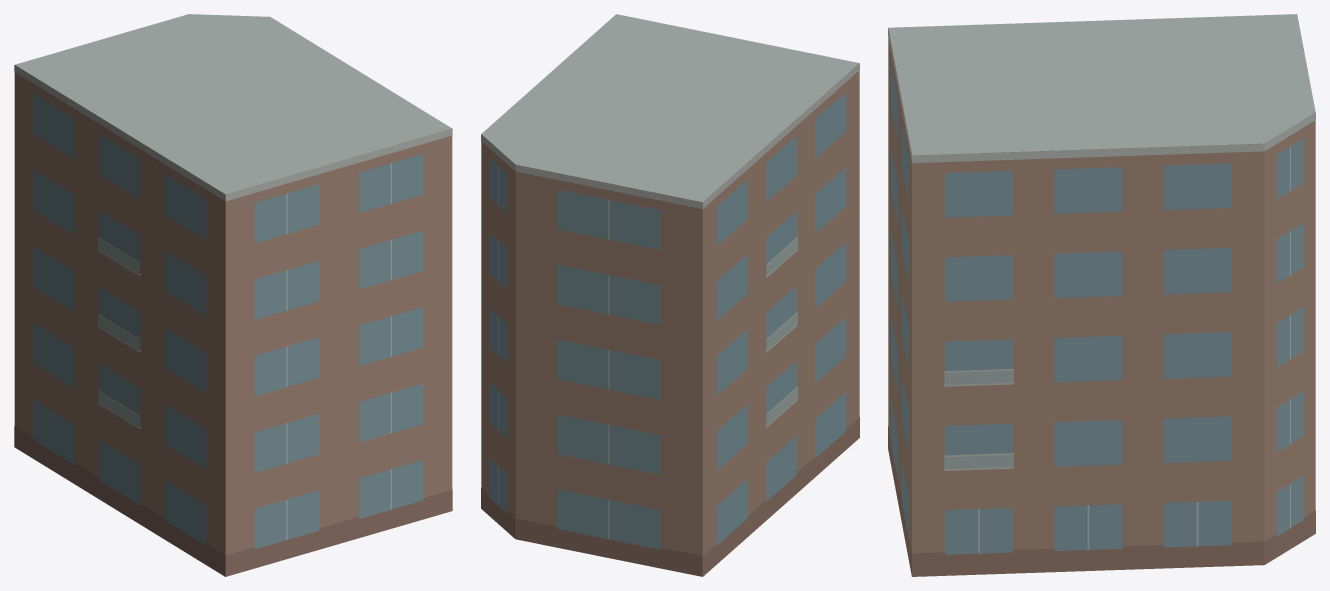
The model's file is survey-upis-32945280.glb.
3 views of the same model, side by side, from view 1: azimuth 30°, elevation 25°; view 2: azimuth 150°, elevation 25°; view 3: azimuth 270°, elevation 25° (orthographic). The views are drawn at different scales.
Visible parts, largest first — view 1: survey-upis-32945280.tmp; view 2: survey-upis-32945280.tmp; view 3: survey-upis-32945280.tmp.
Boxes of the visible parts, box(x1,y1,x2,y2) form: survey-upis-32945280.tmp: box(14, 14, 452, 576); survey-upis-32945280.tmp: box(481, 14, 859, 576); survey-upis-32945280.tmp: box(888, 14, 1315, 576).
Bounding box in the file's own units: 9.51 × 13.2 × 12.15.
